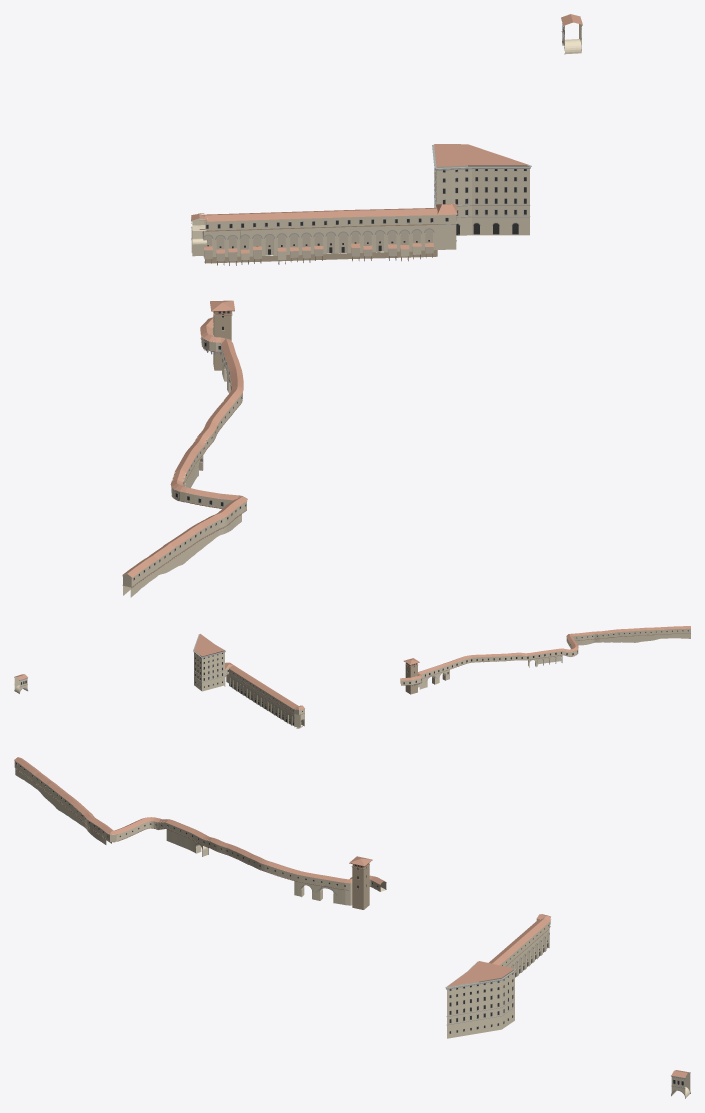
Rendered from corridoio.glb.
The picture shows the model from 3 angles, top to bottom: view 1: azimuth 30°, elevation 25°; view 2: azimuth 150°, elevation 25°; view 3: azimuth 270°, elevation 25°; orthographic projection. The views are drawn at different scales.
Visible parts, largest first — view 1: lungarno@1565-99999.corr, uffizi_ponente@1565-99999.corr, corridoio_oltrarno@1565-99999.corr, corridoio_oltrarno@1565-99999.roof, botteghe@1572-1885.shop, lungarno@1565-99999.roof, uffizi_ponente@1565-99999.roof, uffizi_ponente@1565-99999.serena, lungarno@1565-99999.stone, uffizi_ponente@1565-99999.dark; view 2: corridoio_oltrarno@1565-99999.corr, lungarno@1565-99999.corr, uffizi_ponente@1565-99999.corr, corridoio_oltrarno@1565-99999.roof, lungarno@1565-99999.roof, botteghe@1572-1885.shop, corridoio_bardi@1565-1944_217.corr, uffizi_ponente@1565-99999.roof, uffizi_ponente@1565-99999.serena, corridoio_oltrarno@1565-99999.brick, corridoio_oltrarno@1565-99999.serena, mannelli@1249-99999.stone; view 3: corridoio_oltrarno@1565-99999.corr, uffizi_ponente@1565-99999.corr, corridoio_oltrarno@1565-99999.roof, uffizi_ponente@1565-99999.serena, corridoio_bardi@1565-1944_217.corr, lungarno@1565-99999.corr, uffizi_ponente@1565-99999.roof, mannelli@1249-99999.stone, lungarno@1565-99999.roof.
Boxes of the visible parts, box(x1,y1,x2,y2) form: lungarno@1565-99999.corr: box(191, 203, 456, 257); uffizi_ponente@1565-99999.corr: box(434, 145, 529, 235); corridoio_oltrarno@1565-99999.corr: box(122, 328, 247, 597); corridoio_oltrarno@1565-99999.roof: box(123, 317, 247, 577); botteghe@1572-1885.shop: box(204, 229, 433, 255); lungarno@1565-99999.roof: box(191, 204, 457, 221); uffizi_ponente@1565-99999.roof: box(434, 144, 529, 166); uffizi_ponente@1565-99999.serena: box(432, 144, 531, 226); lungarno@1565-99999.stone: box(205, 250, 437, 263); uffizi_ponente@1565-99999.dark: box(443, 169, 526, 234); corridoio_oltrarno@1565-99999.corr: box(400, 628, 690, 685); lungarno@1565-99999.corr: box(224, 668, 304, 727); uffizi_ponente@1565-99999.corr: box(194, 650, 224, 691); corridoio_oltrarno@1565-99999.roof: box(401, 626, 690, 680); lungarno@1565-99999.roof: box(225, 662, 304, 709); botteghe@1572-1885.shop: box(230, 677, 294, 725); corridoio_bardi@1565-1944_217.corr: box(418, 665, 449, 689); uffizi_ponente@1565-99999.roof: box(194, 634, 224, 656); uffizi_ponente@1565-99999.serena: box(193, 634, 225, 687); corridoio_oltrarno@1565-99999.brick: box(401, 633, 690, 685); corridoio_oltrarno@1565-99999.serena: box(403, 630, 688, 686); mannelli@1249-99999.stone: box(405, 664, 417, 694); corridoio_oltrarno@1565-99999.corr: box(14, 760, 386, 891); uffizi_ponente@1565-99999.corr: box(447, 969, 514, 1038); corridoio_oltrarno@1565-99999.roof: box(14, 757, 385, 884); uffizi_ponente@1565-99999.serena: box(445, 961, 516, 1034); corridoio_bardi@1565-1944_217.corr: box(294, 874, 352, 905); lungarno@1565-99999.corr: box(500, 919, 551, 976); uffizi_ponente@1565-99999.roof: box(447, 961, 514, 986); mannelli@1249-99999.stone: box(352, 865, 369, 909); lungarno@1565-99999.roof: box(488, 914, 550, 965).
Bounding box in the file's own units: 421 × 36.19 × 368.
